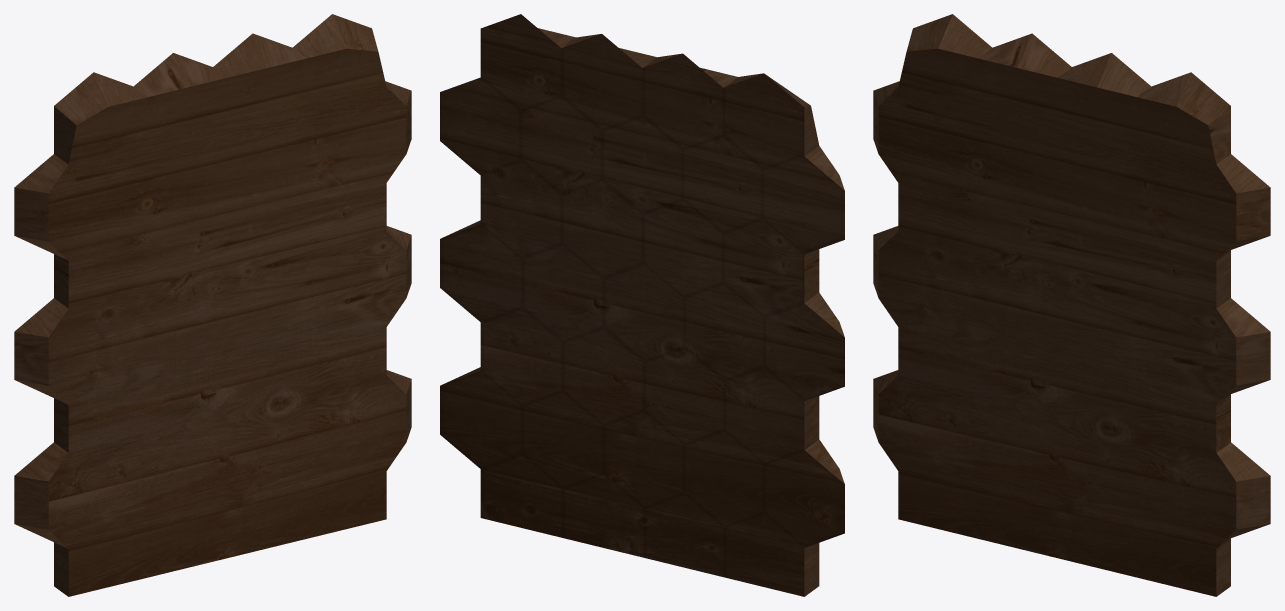
Rendered from DAEdbup.dae.
3 views of the same model, side by side, from view 1: azimuth 30°, elevation 25°; view 2: azimuth 150°, elevation 25°; view 3: azimuth 330°, elevation 25° (orthographic).
Visible parts, largest first — view 1: DrawBridge_Door_Up; view 2: DrawBridge_Door_Up; view 3: DrawBridge_Door_Up.
Boxes of the visible parts, x1=… form: DrawBridge_Door_Up: x1=14, y1=14, x2=411, y2=596; DrawBridge_Door_Up: x1=440, y1=14, x2=844, y2=596; DrawBridge_Door_Up: x1=873, y1=14, x2=1270, y2=596.
Size of the model in its own units: 8.66 by 0.55 by 10.5.
1 material, 1 textured.
